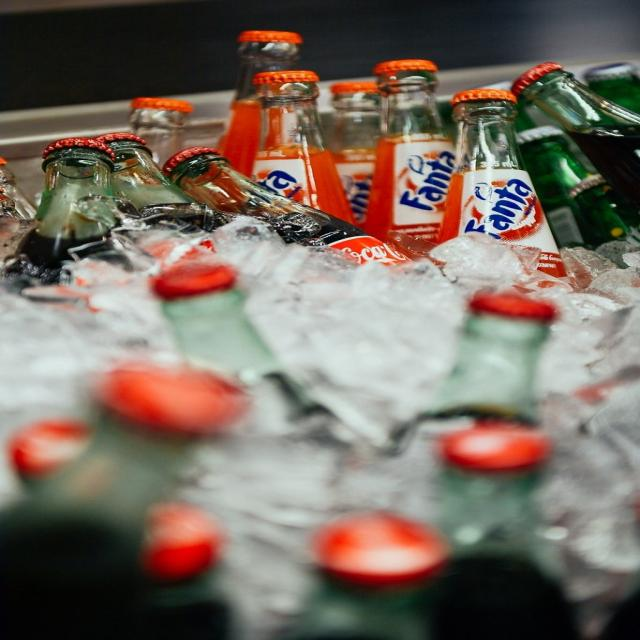Glass: (1, 17, 639, 640)
